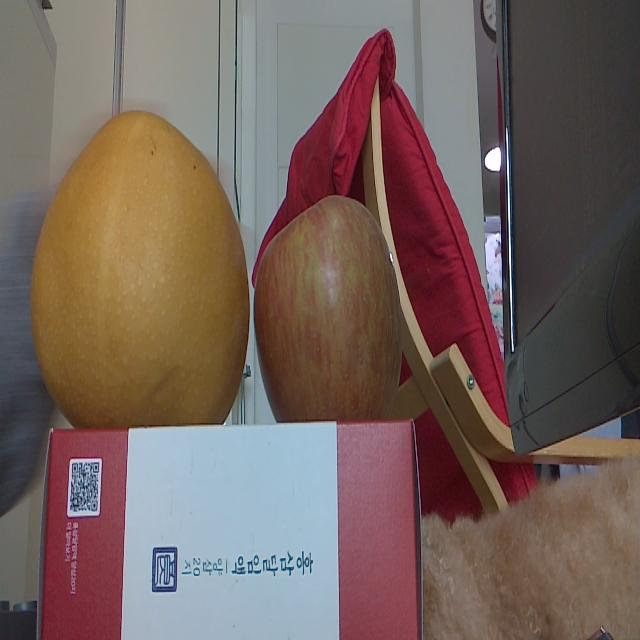apple: (254, 194, 400, 422)
pear: (30, 110, 249, 426)
